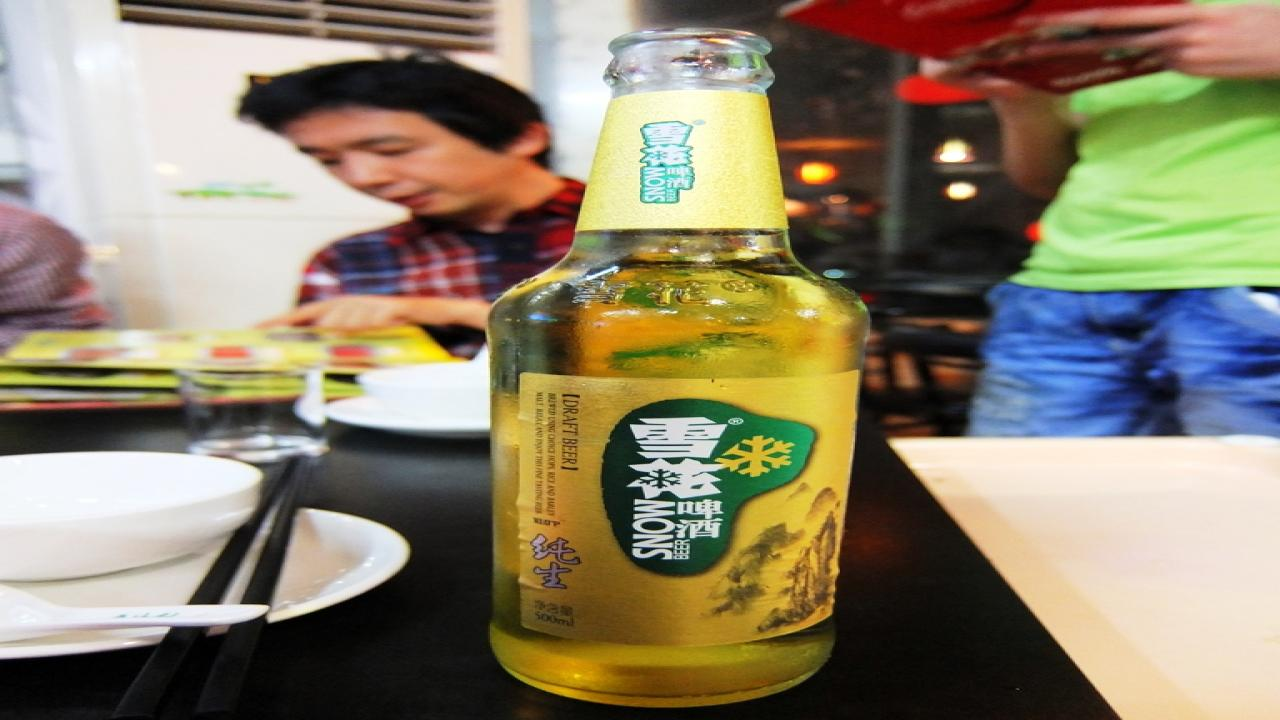chopstick: (119, 459, 319, 720)
